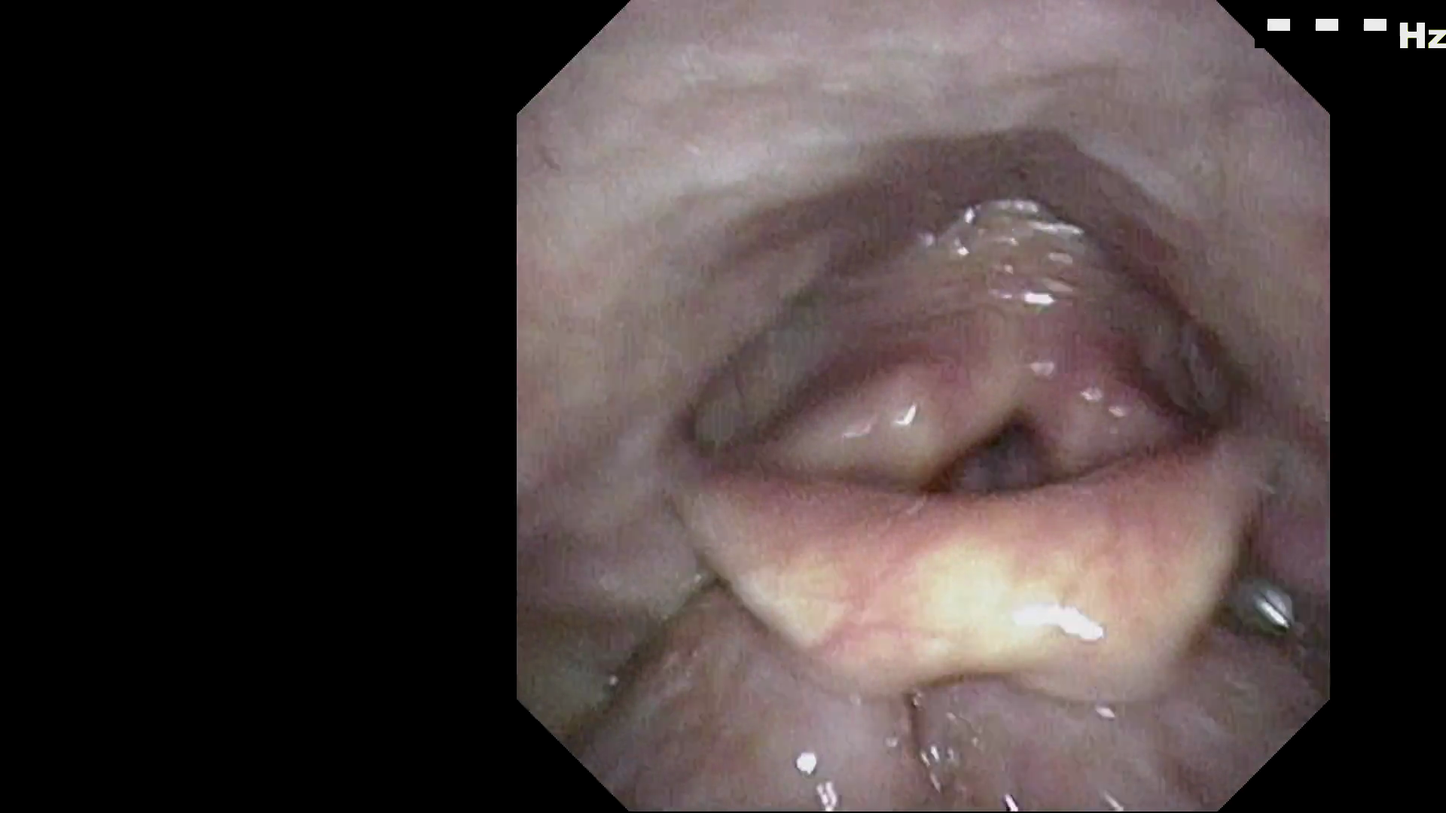epiglottis: (660, 295, 1239, 475)
trachea: (962, 390, 1056, 444)
